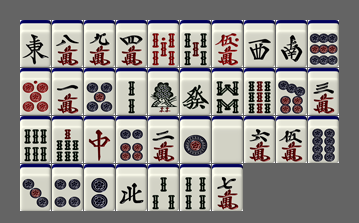0m: (212, 20, 243, 67)
0p: (20, 68, 51, 115)
0s: (148, 20, 179, 67)
1m: (52, 68, 83, 115)
1p: (180, 116, 211, 163)
1s: (148, 68, 179, 115)
1z: (20, 20, 51, 67)
2m: (148, 116, 179, 163)
2p: (84, 164, 115, 211)
2s: (116, 68, 147, 115)
2z: (276, 20, 307, 67)
3m: (308, 68, 339, 115)
3p: (20, 164, 51, 211)
3s: (148, 164, 179, 211)
3z: (244, 20, 275, 67)
4m: (116, 20, 147, 67)
4p: (52, 164, 83, 211)
4s: (180, 164, 211, 211)
4z: (116, 164, 147, 211)
5m: (276, 116, 307, 163)
5p: (84, 68, 115, 115)
5s: (180, 20, 211, 67)
5z: (212, 116, 243, 163)
6m: (244, 116, 275, 163)
6p: (116, 116, 147, 163)
6s: (20, 116, 51, 163)
6z: (180, 68, 211, 115)
7m: (212, 164, 243, 211)
7p: (276, 68, 307, 115)
7s: (52, 116, 83, 163)
7z: (84, 116, 115, 163)
8m: (52, 20, 83, 67)
8p: (308, 116, 339, 163)
8s: (212, 68, 243, 115)
9m: (84, 20, 115, 67)
9p: (308, 20, 339, 67)
9s: (244, 68, 275, 115)
